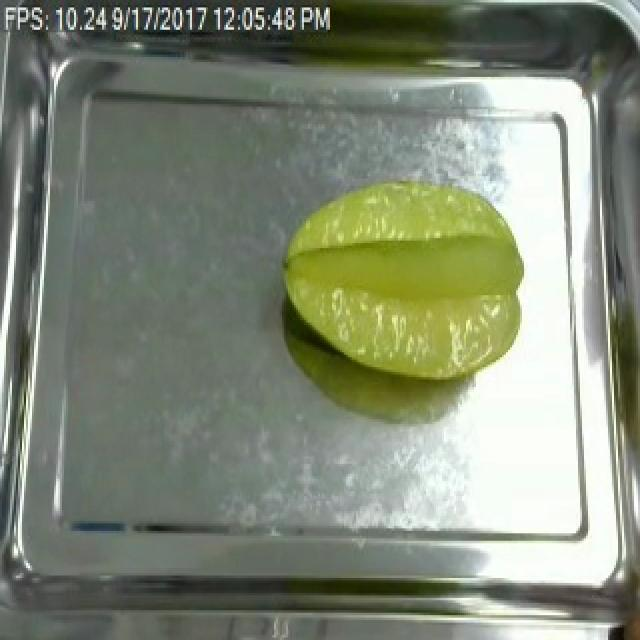fruit: (270, 171, 532, 390)
